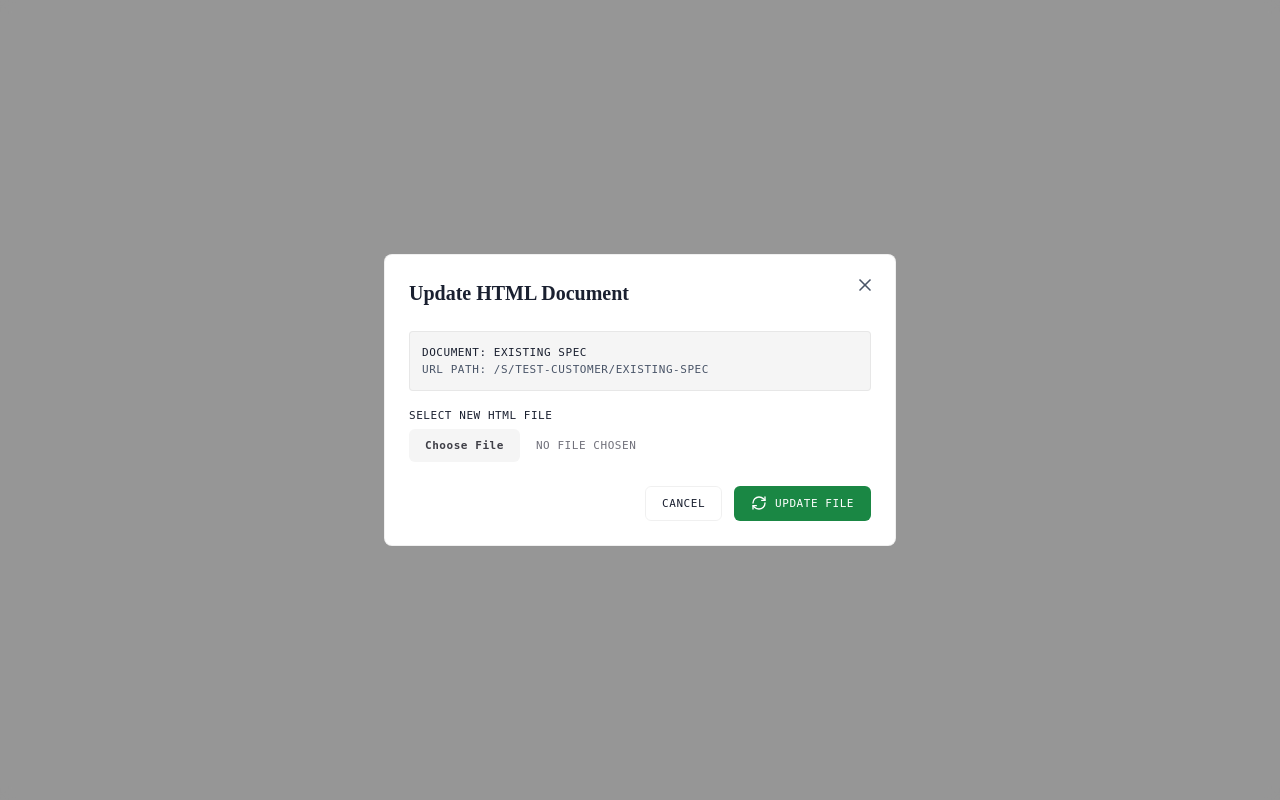
Test: UpdateFileModal Component › validates file selection on submit
The image size is (1280, 800).
Click the button "Update File". click: (803, 503)
box: [734,486,871,521]
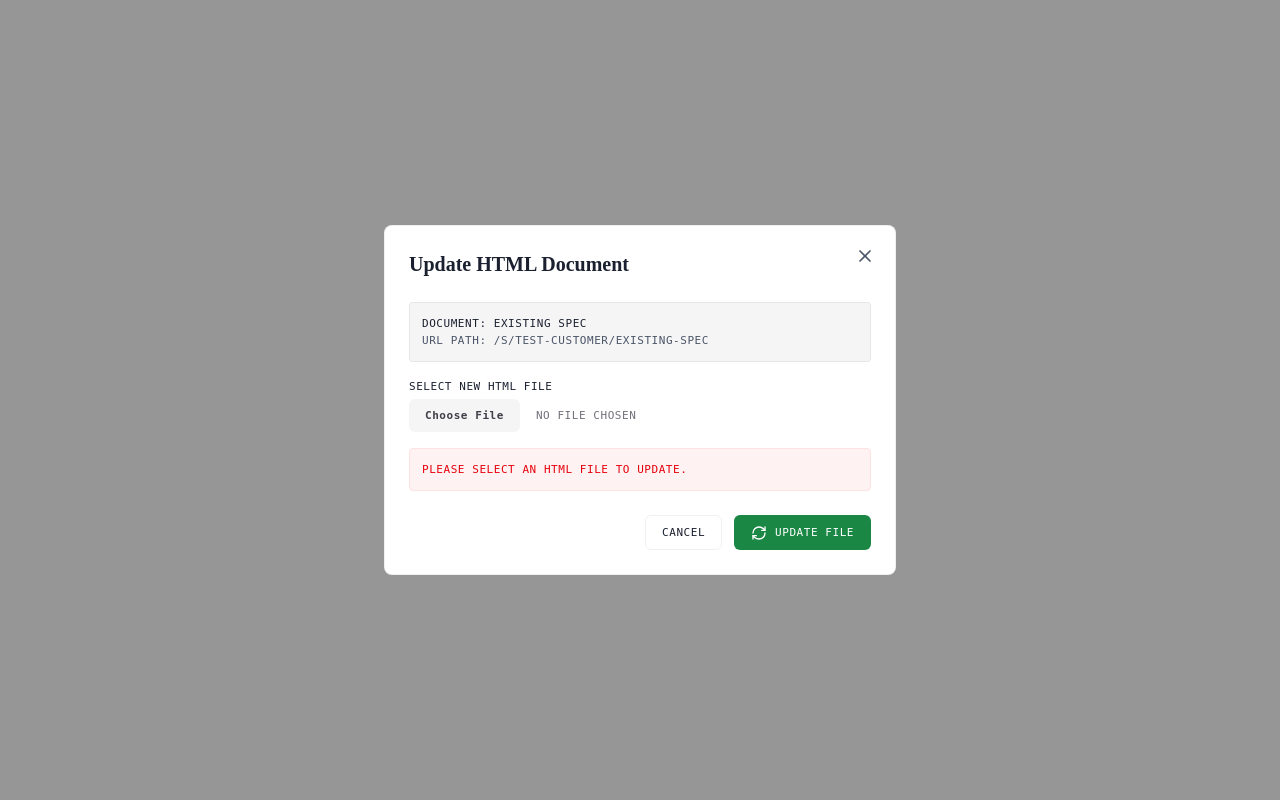
Expected: the text "Please select an HTML file to update." is shown, [409,448,871,491]
